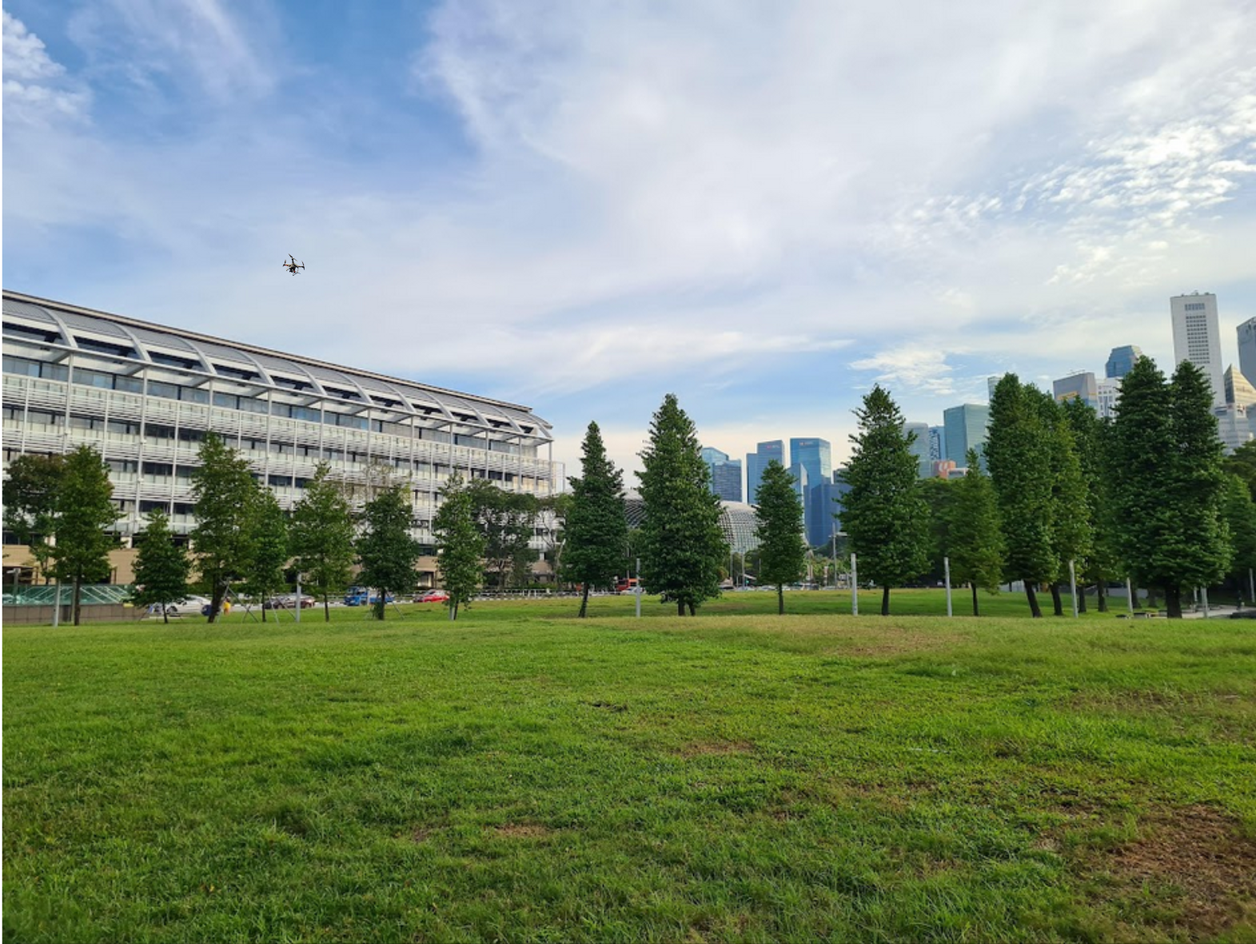drone_other: (282, 252, 306, 277)
